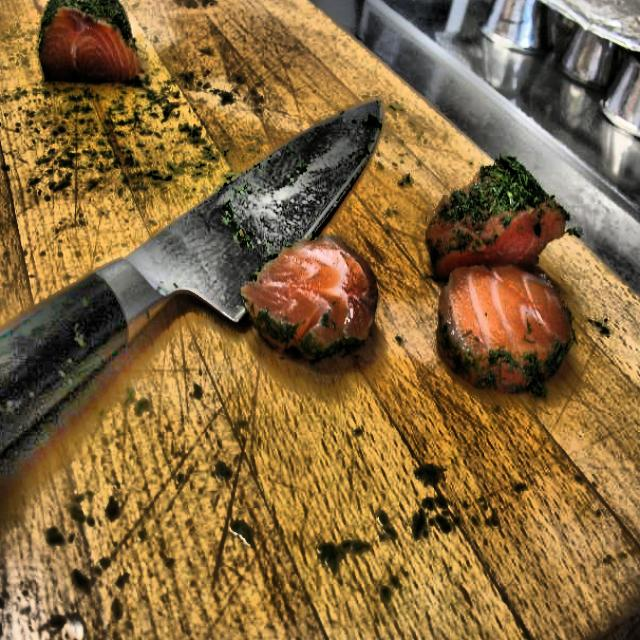knife: (0, 98, 389, 528)
